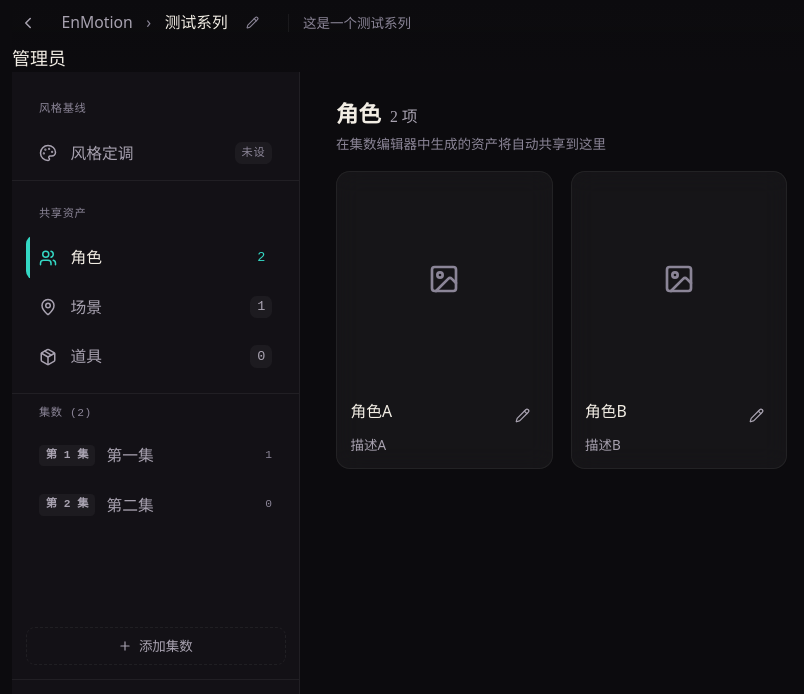
Scenario: SeriesDetailPage › Assets display › switches to scenes when clicked in sidebar
Click the text "场景": (86, 307) top-left (70, 296), bottom-right (102, 318)
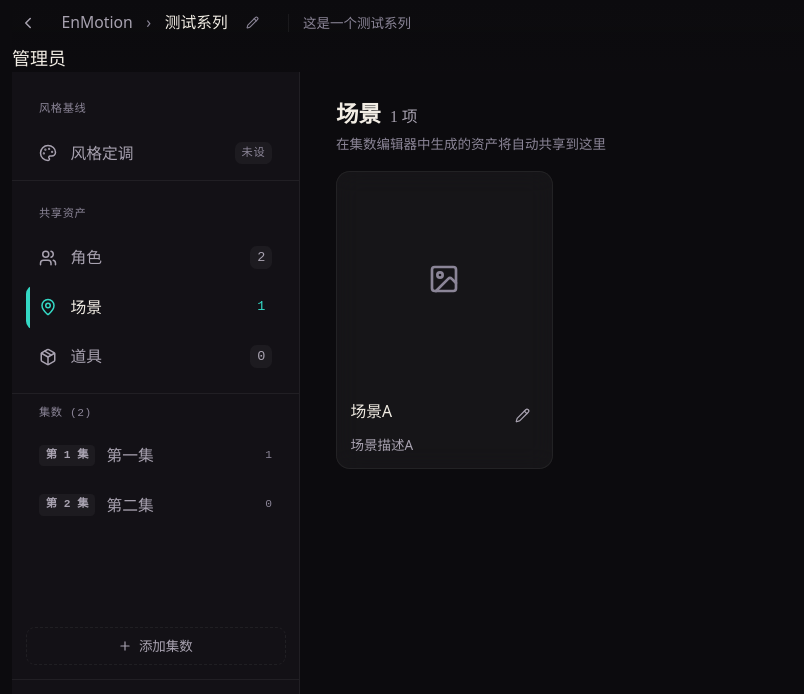
expect the heading "场景A" is shown: met, box top-left (350, 400), bottom-right (392, 422)
